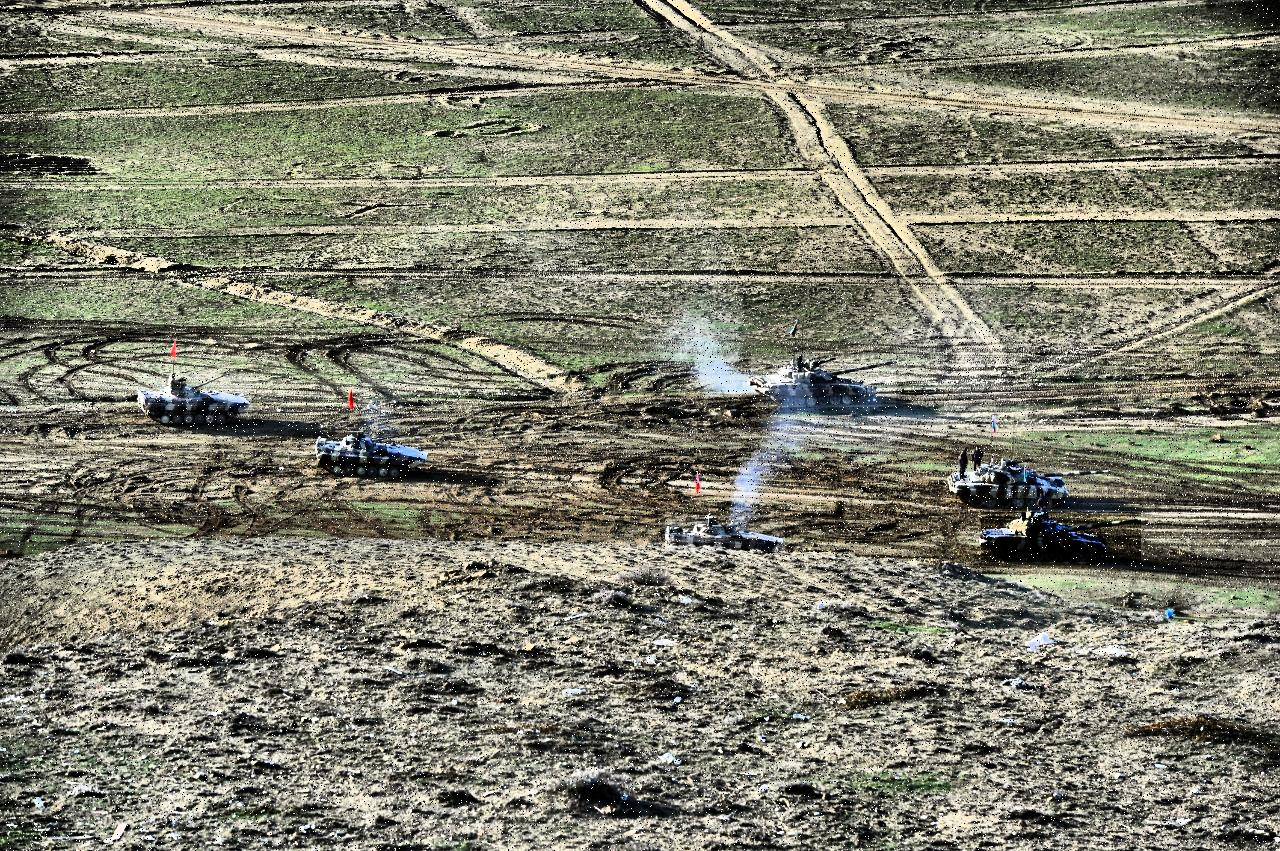military-vehicle: (947, 454, 1116, 507), (981, 513, 1141, 563), (751, 354, 896, 407), (139, 374, 253, 423), (313, 433, 431, 477), (666, 516, 786, 553)
